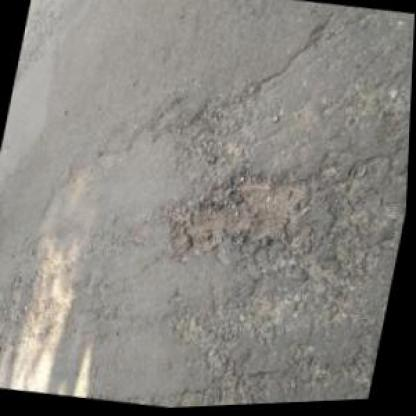pothole: (160, 154, 318, 286), (178, 99, 242, 171)
